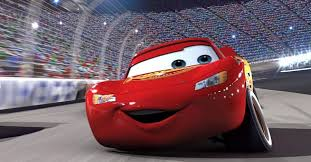mcqueen: (82, 34, 274, 156)
